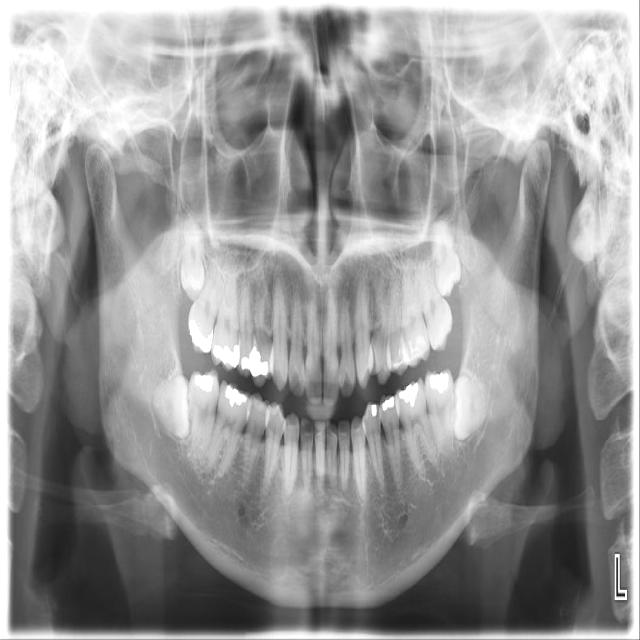Filling: (239, 338, 270, 377), (188, 320, 215, 352), (212, 342, 243, 369), (402, 337, 427, 363), (396, 382, 419, 408), (224, 387, 249, 405), (427, 373, 449, 392), (265, 406, 285, 426), (194, 374, 213, 391), (380, 395, 397, 414), (247, 399, 268, 413), (367, 405, 380, 418)
Periapical lesion: (243, 483, 261, 521)
impacted tooth: (148, 374, 194, 437), (179, 216, 208, 301), (429, 220, 461, 296), (452, 376, 491, 436)
